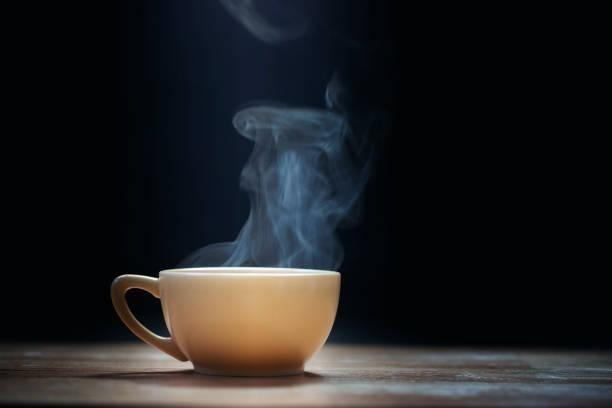cup-handle: (110, 265, 343, 377)
